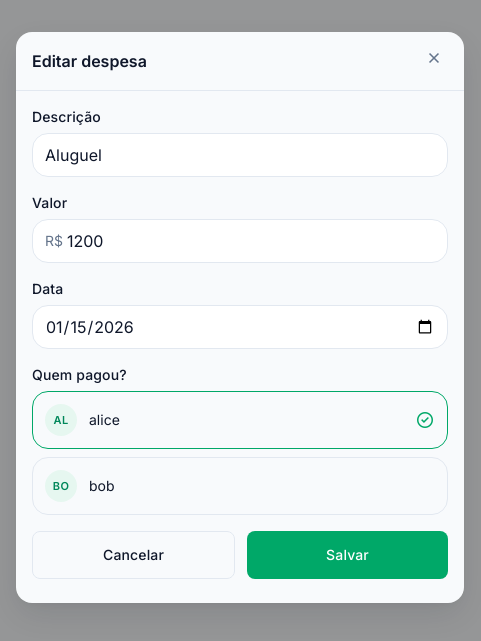
Test: EditarDespesaModal — validação › exibe erro se valor negativo
Replace the text in the number field showing "1200" with "-50". click: [255, 240]
box: [63,220,447,262]
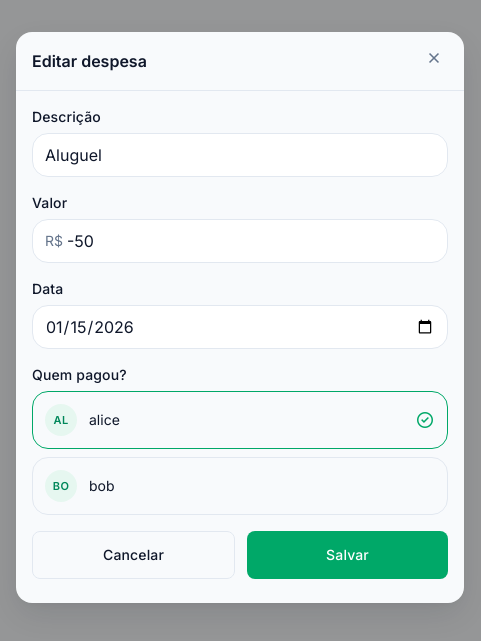
Submit the form showing "Aluguel"
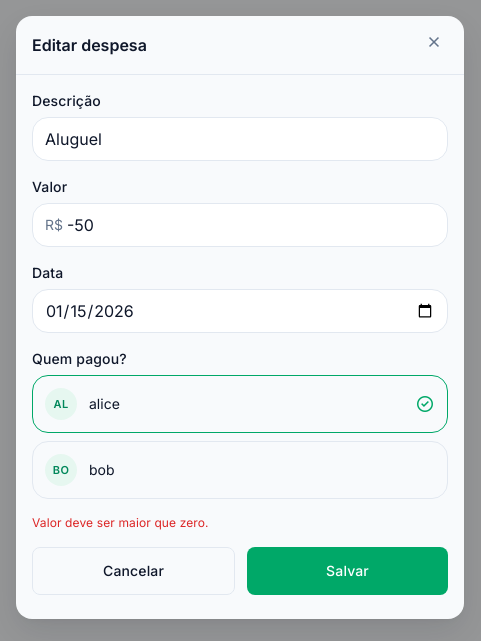
Expected: the text "Valor deve ser maior que zero." is shown, [32,514,209,530]
